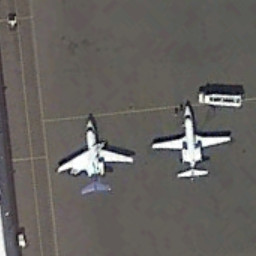Airplane: (51, 115, 138, 201), (146, 102, 235, 184)
